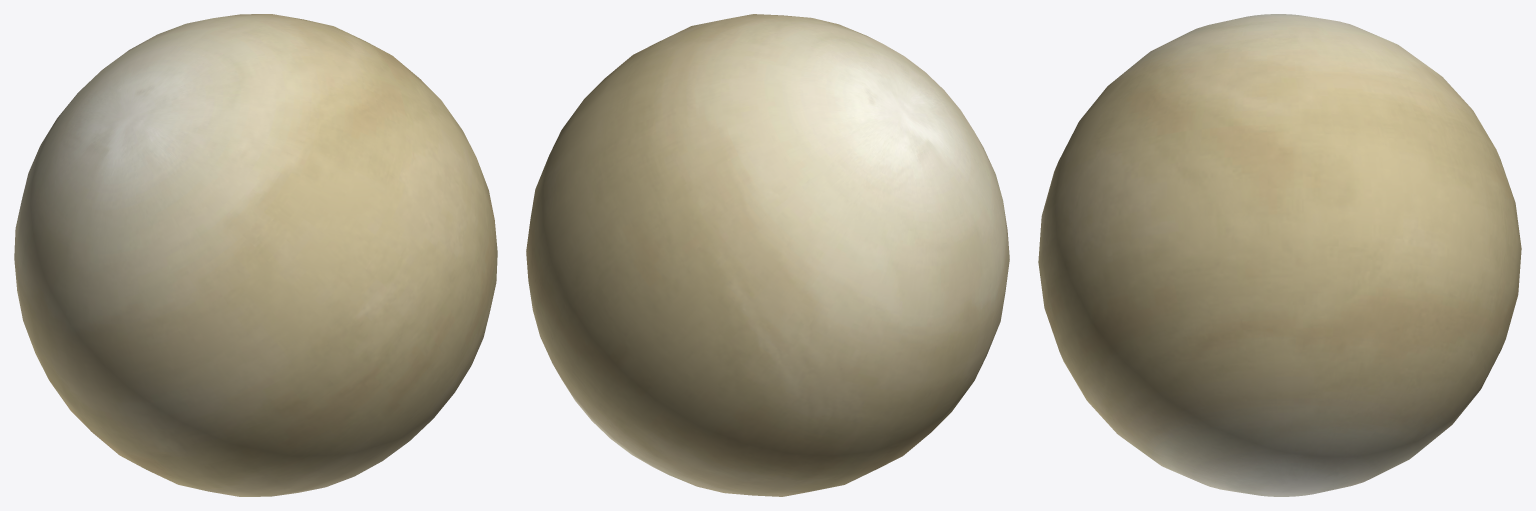
The model's file is venus.fbx.
The picture shows the model from 3 angles, left to right: view 1: azimuth 30°, elevation 25°; view 2: azimuth 150°, elevation 25°; view 3: azimuth 270°, elevation 25°; orthographic projection.
Visible parts, largest first — view 1: venus; view 2: venus; view 3: venus.
Part boxes in pixels (left/top/right/bottom): venus: left=14, top=14, right=497, bottom=496; venus: left=526, top=14, right=1009, bottom=496; venus: left=1038, top=14, right=1521, bottom=496.
Bounding box in the file's own units: 2.39 × 2.39 × 2.4.
1 material, 1 textured.
